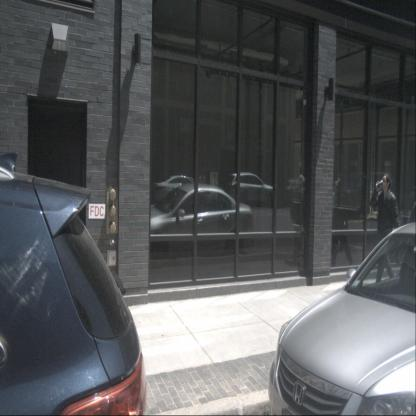human-pedestrian-adult: (370, 173, 402, 287), (290, 174, 307, 266), (198, 173, 203, 195), (202, 172, 206, 196)
vehicle-car: (0, 151, 149, 416), (268, 222, 416, 415), (136, 185, 256, 257), (152, 174, 217, 208), (226, 170, 279, 209)
